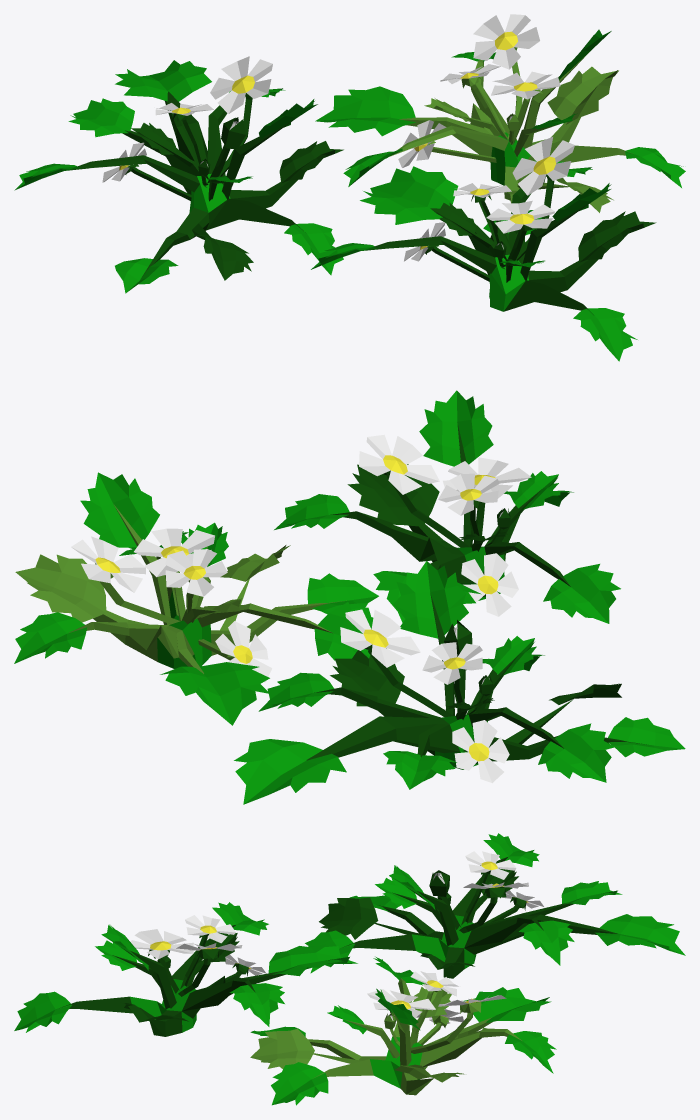
File: strawberry_2.glb
3 views of the same model, one above another, from view 1: azimuth 30°, elevation 25°; view 2: azimuth 150°, elevation 25°; view 3: azimuth 270°, elevation 25° (orthographic). The views are drawn at different scales.
Visible parts, largest first — view 1: strawberry_2; view 2: strawberry_2; view 3: strawberry_2.
Boxes of the visible parts, x1=… form: strawberry_2: x1=14, y1=14, x2=685, y2=361; strawberry_2: x1=14, y1=390, x2=685, y2=804; strawberry_2: x1=14, y1=833, x2=685, y2=1105.
Bounding box in the file's own units: 2.91 × 0.6853 × 3.36.
